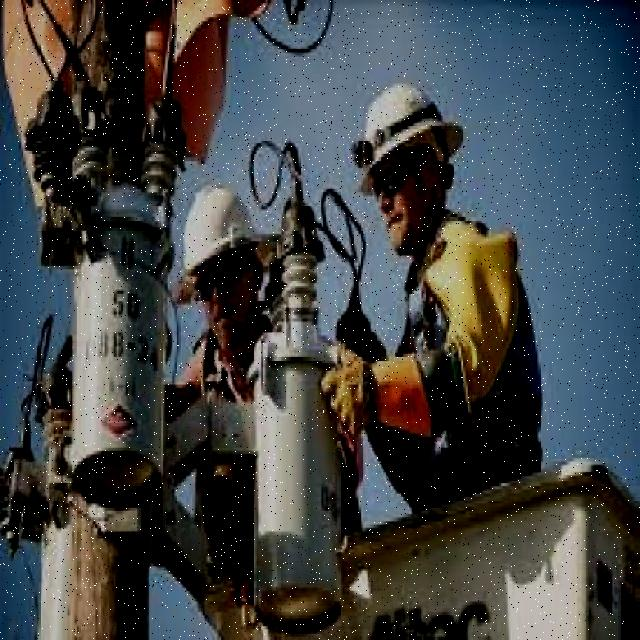Gloves: (320, 331, 394, 440)
Helmet: (354, 81, 460, 167), (178, 186, 270, 269)
